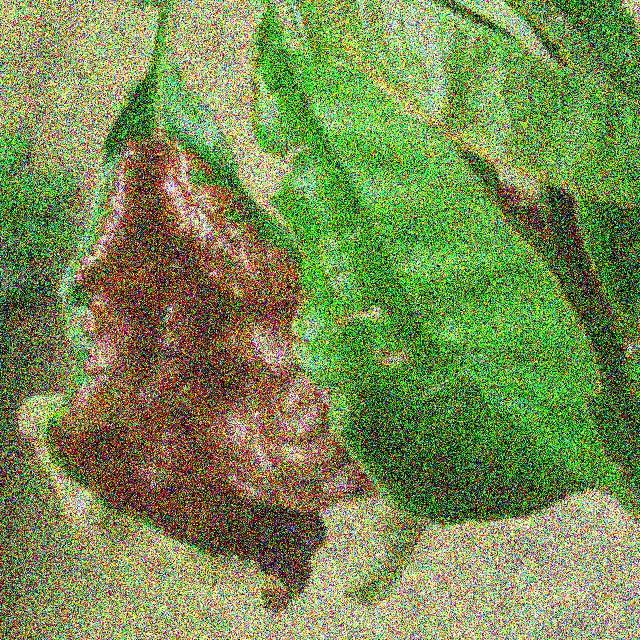leaf_curl: (7, 106, 373, 611)
